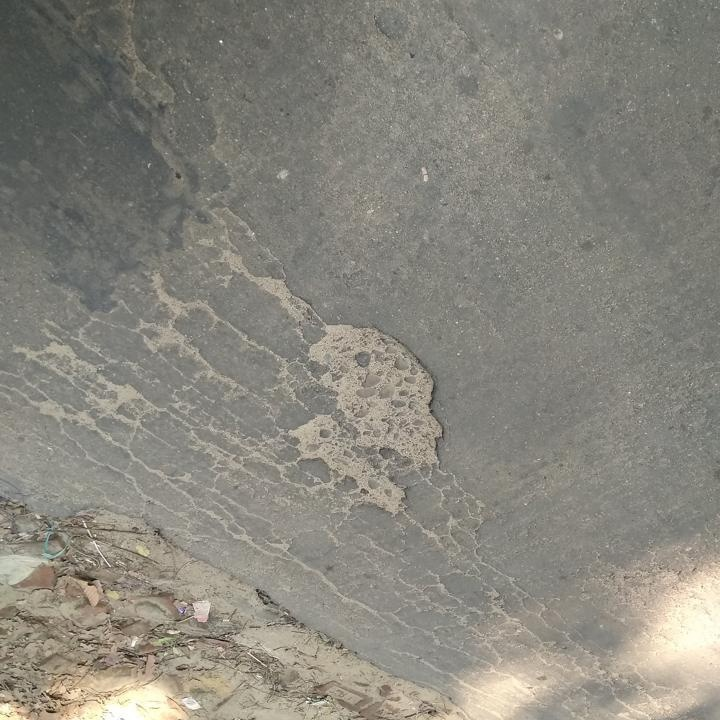pothole: (282, 322, 451, 518)
